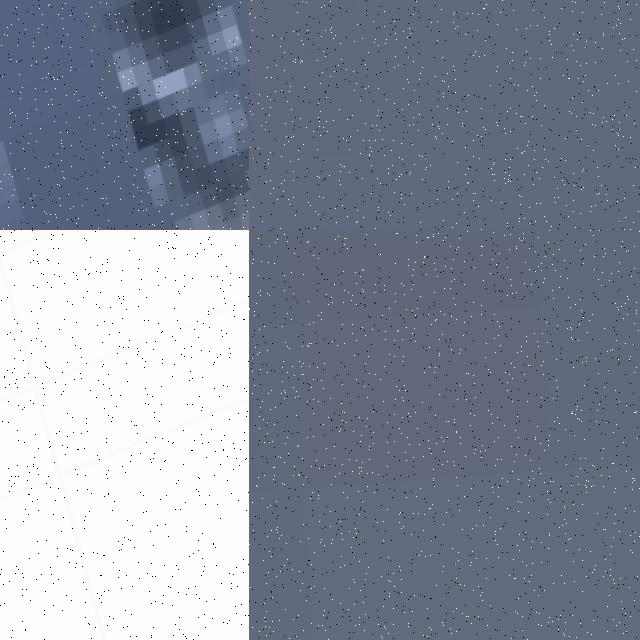0: (0, 0, 249, 230)
drone: (0, 230, 249, 640)
